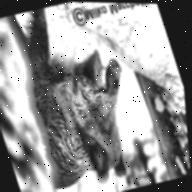boar: (0, 0, 156, 192)
